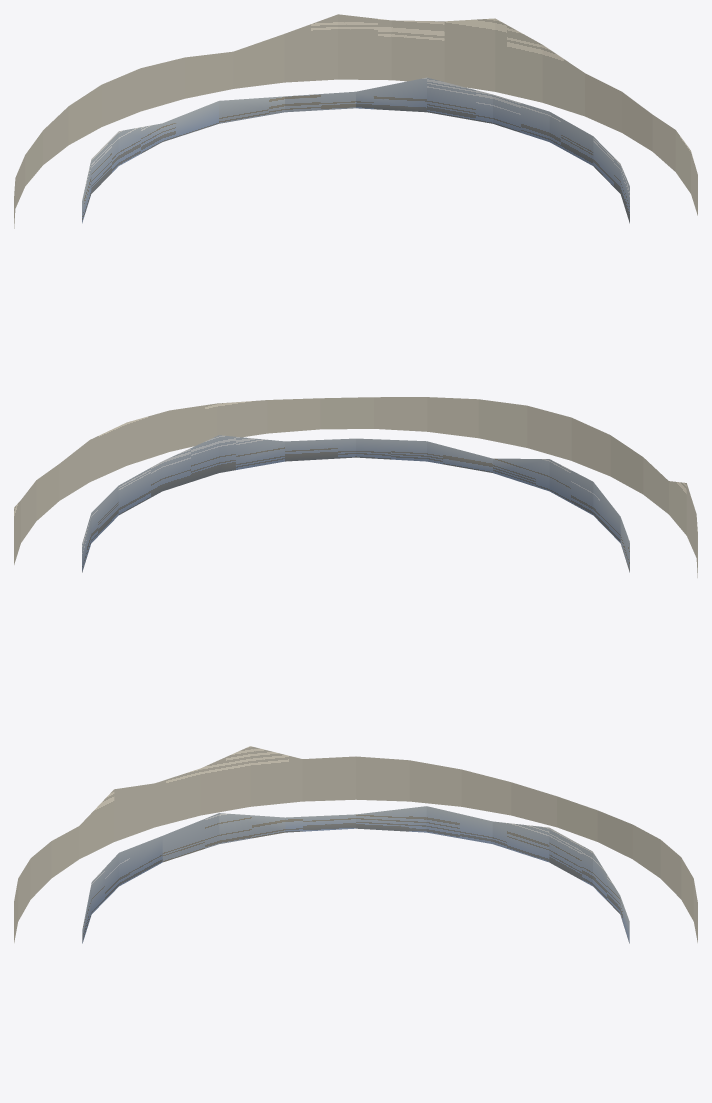
Rendered from mter.backdrop.glb.
The picture shows the model from 3 angles, top to bottom: view 1: azimuth 30°, elevation 25°; view 2: azimuth 150°, elevation 25°; view 3: azimuth 270°, elevation 25°; orthographic projection.
Parts seen in each view (by area): view 1: kit_shell_vista_far, kit_shell_vista; view 2: kit_shell_vista_far, kit_shell_vista; view 3: kit_shell_vista_far, kit_shell_vista.
Part boxes in pixels (x1,y1,x2,y2): kit_shell_vista_far: (14,14,697,228); kit_shell_vista: (82,77,629,223); kit_shell_vista_far: (14,397,697,577); kit_shell_vista: (82,435,629,572); kit_shell_vista_far: (14,746,697,942); kit_shell_vista: (82,806,629,943).
Size of the model in its own units: 650 by 76.93 by 650.
Materials: 2 (2 with a texture image).
